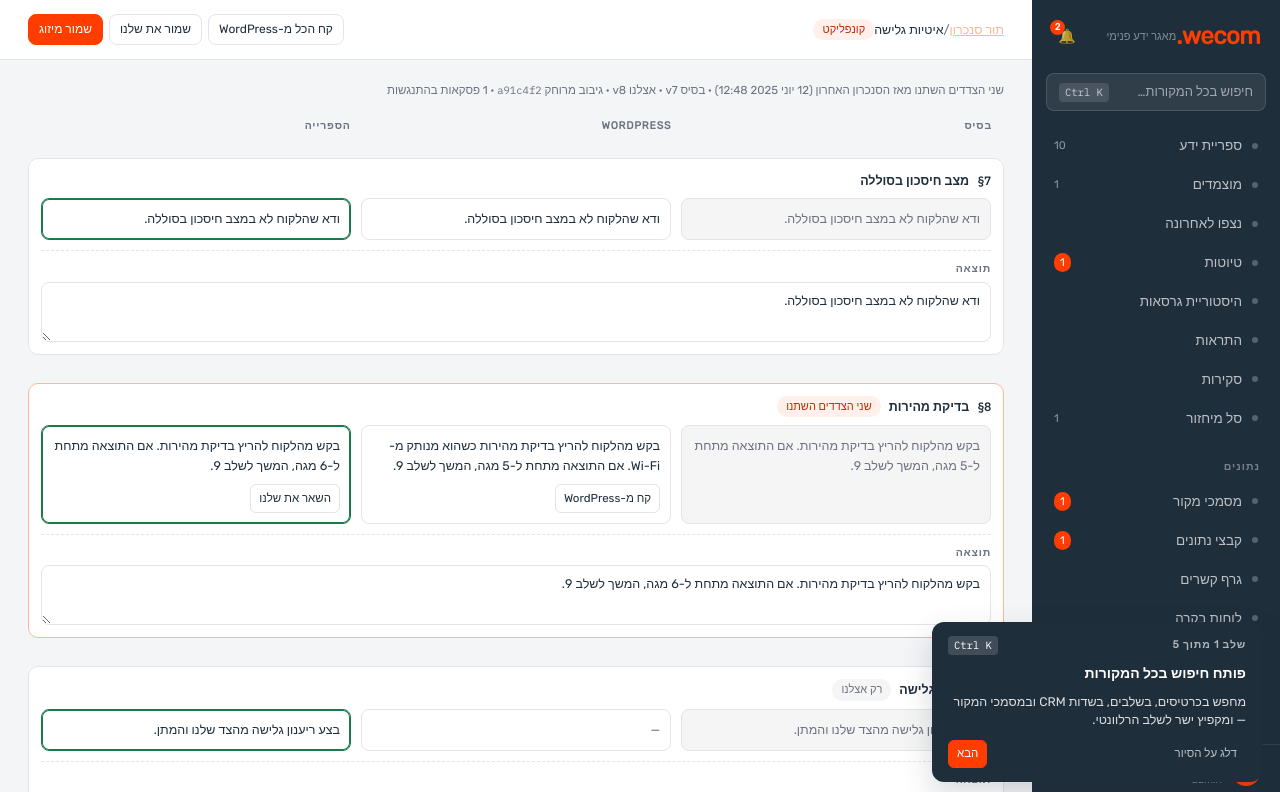
Test: sync · three-way merge › takes ours wholesale
Click the button "שמור את שלנו" at [156, 30], box 109,14 -> 202,45
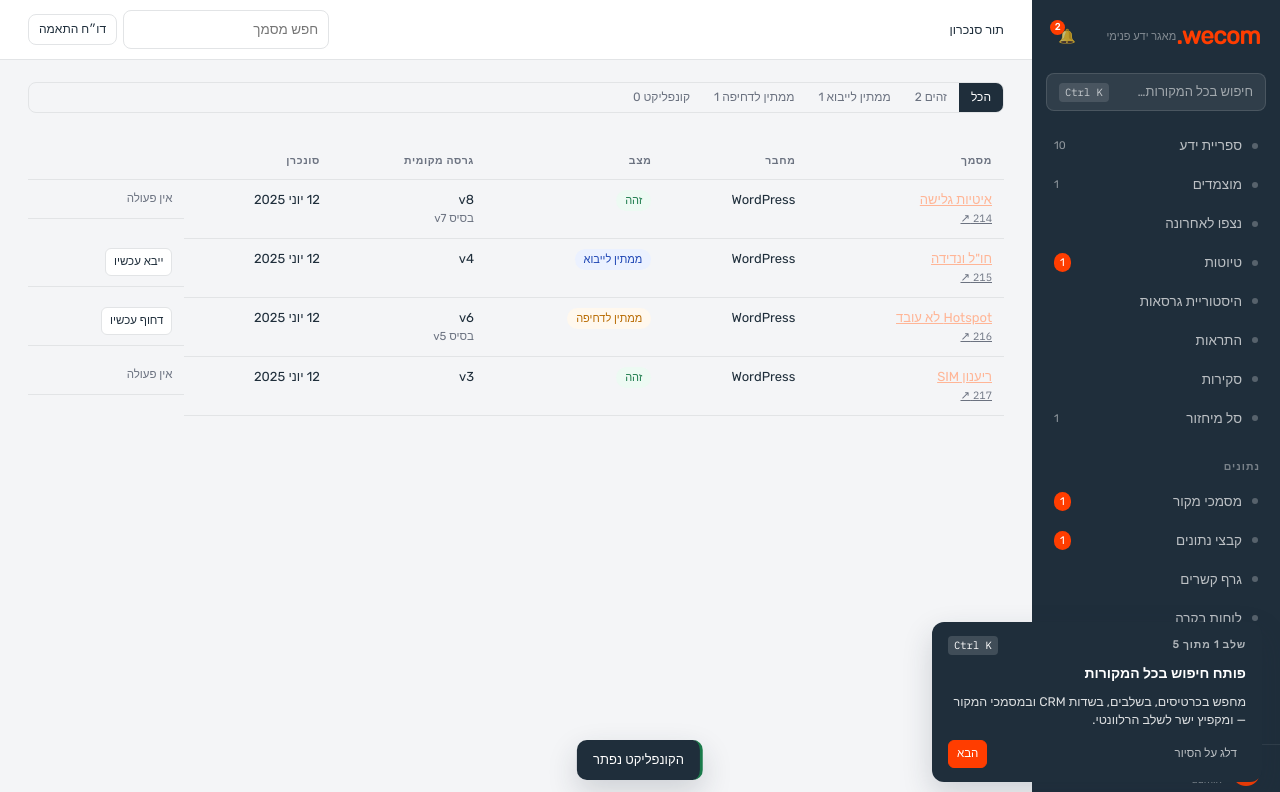
Expected: the text "הקונפליקט נפתר" is shown, 593,750 -> 684,770
